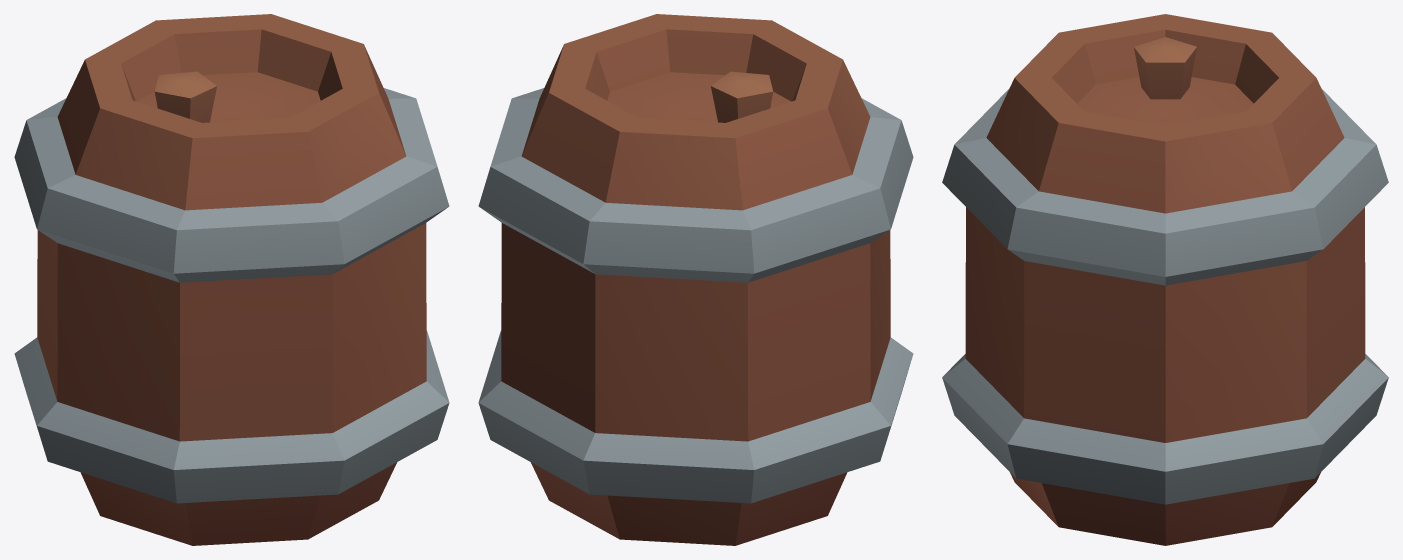
Rendered from barrel_small.glb.
3 views of the same model, side by side, from view 1: azimuth 30°, elevation 25°; view 2: azimuth 150°, elevation 25°; view 3: azimuth 270°, elevation 25° (orthographic).
Parts seen in each view (by area): view 1: barrel_small; view 2: barrel_small; view 3: barrel_small.
Part boxes in pixels (<box>): barrel_small: <box>14,14,449,545</box>; barrel_small: <box>478,14,913,545</box>; barrel_small: <box>942,14,1388,545</box>.
Size of the model in its own units: 1 by 1.02 by 1.
